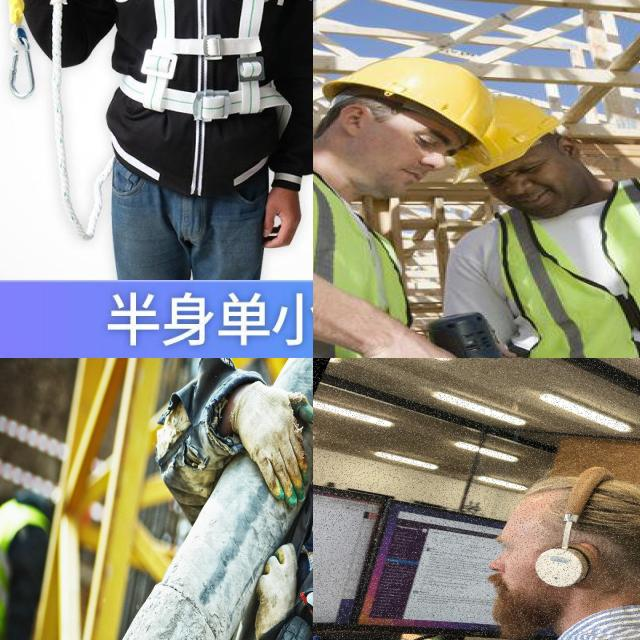Ear-protection: (462, 443, 640, 640)
Harness: (123, 0, 286, 242)
No_Ear-Protection: (320, 102, 383, 139), (556, 136, 580, 160)
No_Glasses: (481, 135, 569, 186), (380, 111, 464, 156)
face_nomask: (313, 116, 445, 200), (488, 159, 614, 218)
hand_glove: (231, 360, 313, 508), (250, 534, 300, 638)
head_helmet: (323, 58, 492, 139), (455, 97, 560, 175)
person: (217, 358, 313, 640)
vest: (0, 466, 41, 640)
